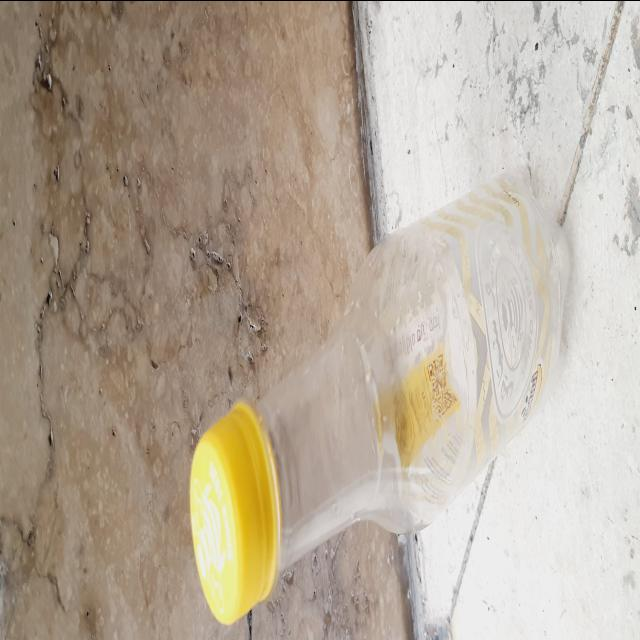plastic: (191, 175, 563, 623)
